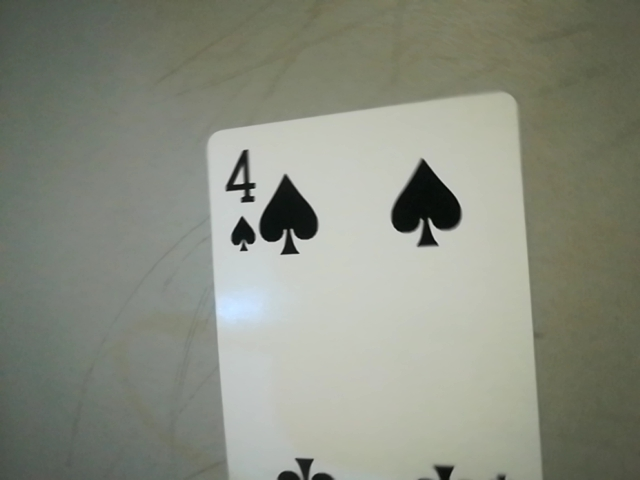ht 4: (213, 142, 266, 255)
